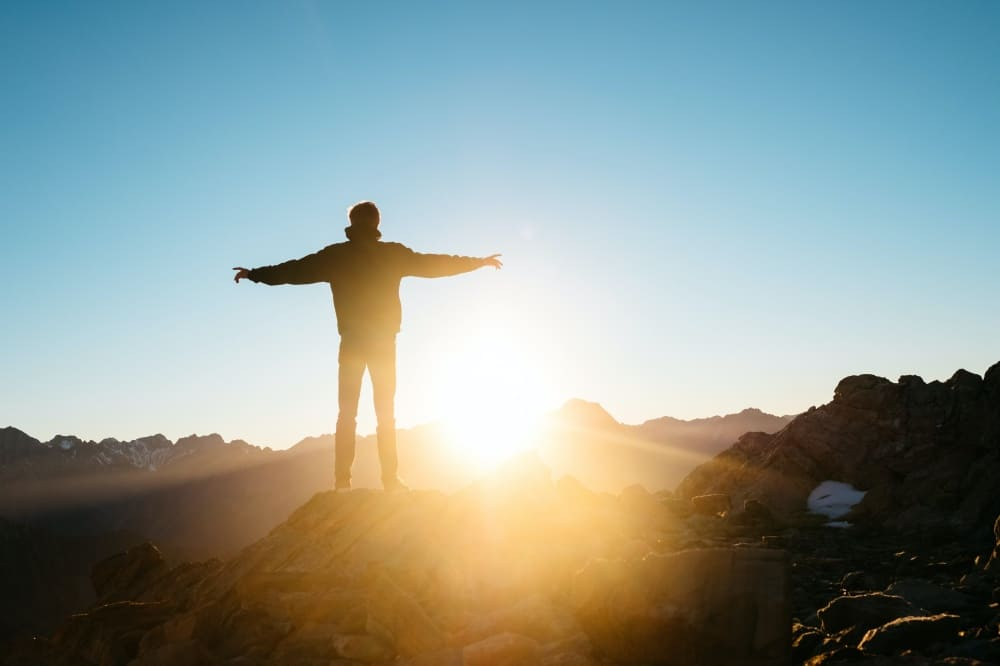person: (230, 202, 503, 497)
